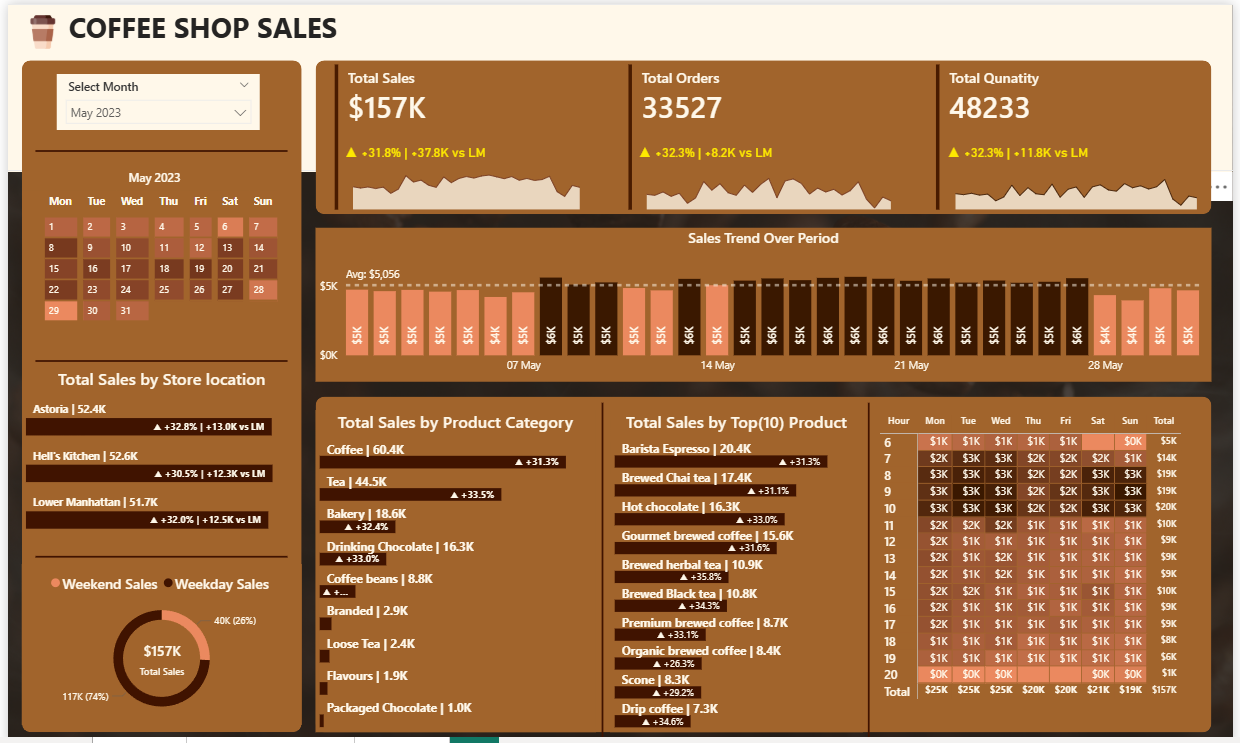

This screenshot's page, from the dashboard's own definition file:
{"tool":"powerbi","page":{"name":"Page 1","canvas":[1400,850],"ordinal":0},"visuals":[{"type":"shape","box":[-8,0,1408,192],"z":0},{"type":"shape","box":[16,64,320,768],"z":1000},{"type":"shape","box":[352,64,1024,176],"z":2000},{"type":"textbox","box":[64,0,336,64],"z":3000},{"type":"image","box":[16,0,48,64],"z":4000},{"type":"slicer","fields":{"Values":["Date Table.Month & Year"]},"box":[56,80,232,64],"z":5000},{"type":"group","id":"g1","title":"Group 1","box":[368,64,300,176],"z":6000},{"type":"cardVisual","fields":{"Data":["Measures Table.Total Sales"]},"box":[368,64,284.2,176],"z":6000,"group":"g3"},{"type":"cardVisual","fields":{"Data":["Measures Table.Total Transactions"]},"box":[704,64,304,176],"z":6000,"group":"g2"},{"type":"cardVisual","fields":{"Data":["Measures Table.Total Qunatity"]},"box":[1056,64,300.9,176],"z":6000,"group":"g4"},{"type":"group","id":"g2","title":"Group 2","box":[704,64,320,176],"z":7000},{"type":"lineChart","fields":{"Y":["Measures Table.Total Sales"],"Category":["Date Table.Date Hierarchy.Date"]},"box":[383.8,160,284.2,80],"z":7000,"group":"g3"},{"type":"lineChart","fields":{"Category":["Date Table.Date Hierarchy.Date"],"Y":["Measures Table.Total Orders"]},"box":[720,160,304,80],"z":7000,"group":"g2"},{"type":"lineChart","fields":{"Category":["Date Table.Date Hierarchy.Date"],"Y":["Measures Table.Total Qunatity"]},"box":[1072.7,160,300.9,80],"z":7000,"group":"g4"},{"type":"group","id":"g3","title":"Group 2","box":[368,64,300,176],"z":7002,"group":"g1"},{"type":"group","id":"g4","title":"Group 2","box":[1056,64,288,192],"z":8000},{"type":"donutChart","fields":{"Y":["Measures Table.Weekend Sales","Measures Table.Weekday Sales"]},"box":[16,640,320,184],"z":9000},{"type":"card","fields":{"Values":["Min(Date Table.Month & Year)"]},"box":[112,192,112,16],"z":10000},{"type":"shape","box":[32,400,288,16],"z":11000},{"type":"shape","box":[32,160,288,16],"z":12000},{"type":"shape","box":[32,616,288,32],"z":13000},{"type":"card","fields":{"Values":["Measures Table.Total Sales"]},"box":[144,720,64,56],"z":14000},{"type":"pivotTable","fields":{"Columns":["Date Table.Day Name"],"Values":["Min(Date Table.Day No)"],"Rows":["Date Table.Week Number"]},"box":[16,208,320,192],"z":15000},{"type":"clusteredBarChart","title":"Total Sales by Store location","fields":{"Category":["Coffee Shop Sales.store_location"],"Y":["Measures Table.Place Holder","Measures Table.Total Sales"]},"box":[16,416,320,192],"z":16000},{"type":"columnChart","title":"Sales Trend Over Period","fields":{"Y":["Measures Table.Total Sales"],"Category":["Coffee Shop Sales.transaction_date"]},"box":[352,256,1024,176],"z":17000},{"type":"shape","box":[352,448,1024,384],"z":18000},{"type":"clusteredBarChart","title":"Total Sales by Product Category","fields":{"Category":["Coffee Shop Sales.product_category"],"Y":["Measures Table.Place Holder","Measures Table.Total Sales"]},"box":[352,464,320,368],"z":19000},{"type":"shape","box":[672,456,16,384],"z":20000},{"type":"clusteredBarChart","title":"Total Sales by Top(10) Product ","fields":{"Category":["Coffee Shop Sales.product_type"],"Y":["Measures Table.Place Holder","Measures Table.Total Sales"]},"box":[688,464,288,368],"z":21000},{"type":"shape","box":[976,456,16,384],"z":22000},{"type":"pivotTable","fields":{"Rows":["Coffee Shop Sales.Transaction Hour"],"Values":["Measures Table.Total Sales"],"Columns":["Date Table.Day Name"]},"box":[992,464,368,368],"z":23000}]}

Visuals, with their boxes in screenshot pixels (x1, y1, x2, y2), scaled from the page's 1400x850 canvas onto the 1240x743 screenshot:
shape: {"left": 0, "top": 0, "right": 1239, "bottom": 168}
shape: {"left": 14, "top": 56, "right": 298, "bottom": 727}
shape: {"left": 312, "top": 56, "right": 1219, "bottom": 210}
textbox: {"left": 57, "top": 0, "right": 354, "bottom": 56}
image: {"left": 14, "top": 0, "right": 57, "bottom": 56}
slicer - Date Table.Month & Year: {"left": 50, "top": 70, "right": 255, "bottom": 126}
"Group 1" group: {"left": 326, "top": 56, "right": 592, "bottom": 210}
cardVisual - Measures Table.Total Sales: {"left": 326, "top": 56, "right": 578, "bottom": 210}
cardVisual - Measures Table.Total Transactions: {"left": 624, "top": 56, "right": 893, "bottom": 210}
cardVisual - Measures Table.Total Qunatity: {"left": 935, "top": 56, "right": 1202, "bottom": 210}
"Group 2" group: {"left": 624, "top": 56, "right": 907, "bottom": 210}
lineChart - Measures Table.Total Sales x Date Table.Date Hierarchy.Date: {"left": 340, "top": 140, "right": 592, "bottom": 210}
lineChart - Date Table.Date Hierarchy.Date x Measures Table.Total Orders: {"left": 638, "top": 140, "right": 907, "bottom": 210}
lineChart - Date Table.Date Hierarchy.Date x Measures Table.Total Qunatity: {"left": 950, "top": 140, "right": 1217, "bottom": 210}
"Group 2" group: {"left": 326, "top": 56, "right": 592, "bottom": 210}
"Group 2" group: {"left": 935, "top": 56, "right": 1190, "bottom": 224}
donutChart - Measures Table.Weekend Sales x Measures Table.Weekday Sales: {"left": 14, "top": 559, "right": 298, "bottom": 720}
card - Min(Date Table.Month & Year): {"left": 99, "top": 168, "right": 198, "bottom": 182}
shape: {"left": 28, "top": 350, "right": 283, "bottom": 364}
shape: {"left": 28, "top": 140, "right": 283, "bottom": 154}
shape: {"left": 28, "top": 538, "right": 283, "bottom": 566}
card - Measures Table.Total Sales: {"left": 128, "top": 629, "right": 184, "bottom": 678}
pivotTable - Date Table.Day Name x Min(Date Table.Day No): {"left": 14, "top": 182, "right": 298, "bottom": 350}
"Total Sales by Store location" clusteredBarChart: {"left": 14, "top": 364, "right": 298, "bottom": 531}
"Sales Trend Over Period" columnChart: {"left": 312, "top": 224, "right": 1219, "bottom": 378}
shape: {"left": 312, "top": 392, "right": 1219, "bottom": 727}
"Total Sales by Product Category" clusteredBarChart: {"left": 312, "top": 406, "right": 595, "bottom": 727}
shape: {"left": 595, "top": 399, "right": 609, "bottom": 734}
"Total Sales by Top(10) Product " clusteredBarChart: {"left": 609, "top": 406, "right": 864, "bottom": 727}
shape: {"left": 864, "top": 399, "right": 879, "bottom": 734}
pivotTable - Coffee Shop Sales.Transaction Hour x Measures Table.Total Sales: {"left": 879, "top": 406, "right": 1205, "bottom": 727}
